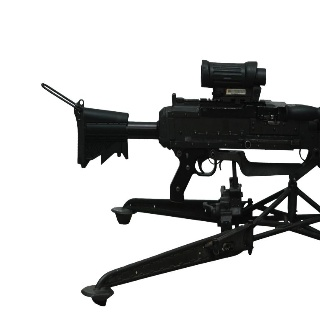rifle: (38, 55, 320, 221)
